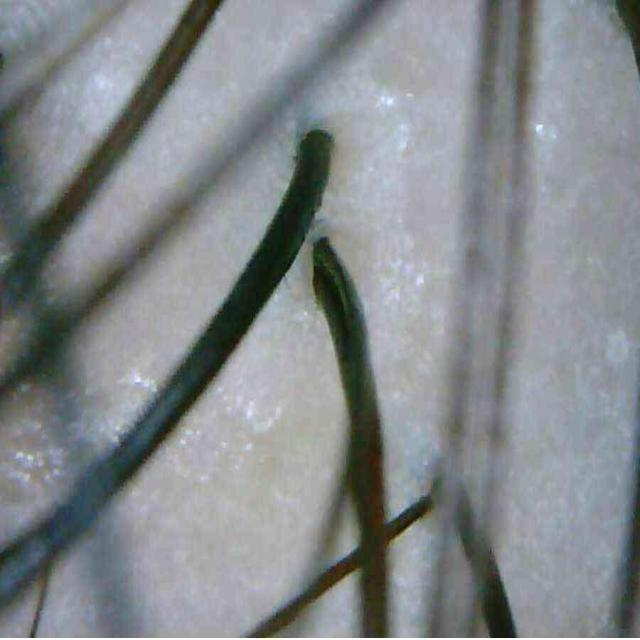o: (373, 214, 428, 316), (3, 427, 75, 503), (365, 79, 423, 167), (213, 384, 285, 440), (116, 369, 158, 394), (534, 121, 559, 141)
